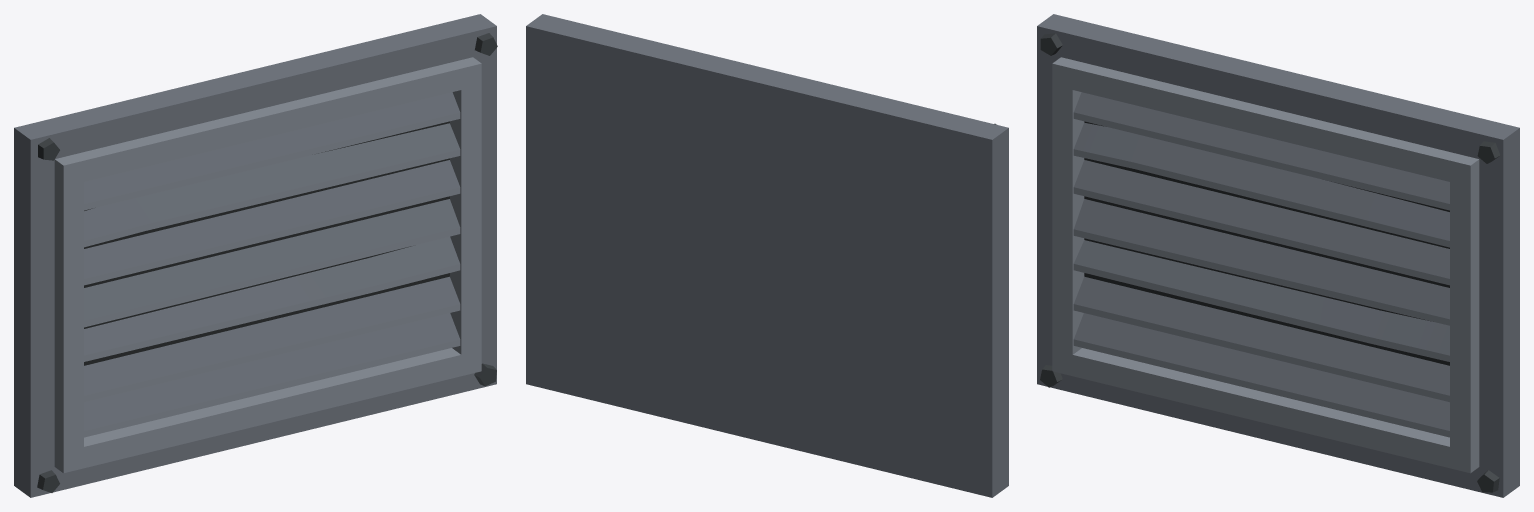
File: SM_Prop_Wall_Vent_01.obj
3 views of the same model, side by side, from view 1: azimuth 30°, elevation 25°; view 2: azimuth 150°, elevation 25°; view 3: azimuth 330°, elevation 25° (orthographic).
Parts seen in each view (by area): view 1: SM_Prop_Wall_Vent_01_0; view 2: SM_Prop_Wall_Vent_01_0; view 3: SM_Prop_Wall_Vent_01_0.
Part boxes in pixels (x1,y1,x2,y2): SM_Prop_Wall_Vent_01_0: (14,14,497,497); SM_Prop_Wall_Vent_01_0: (526,14,1008,497); SM_Prop_Wall_Vent_01_0: (1037,14,1519,497).
Bounding box in the file's own units: 0.9382 × 0.6883 × 0.0882.
Materials: 1 (1 with a texture image).
